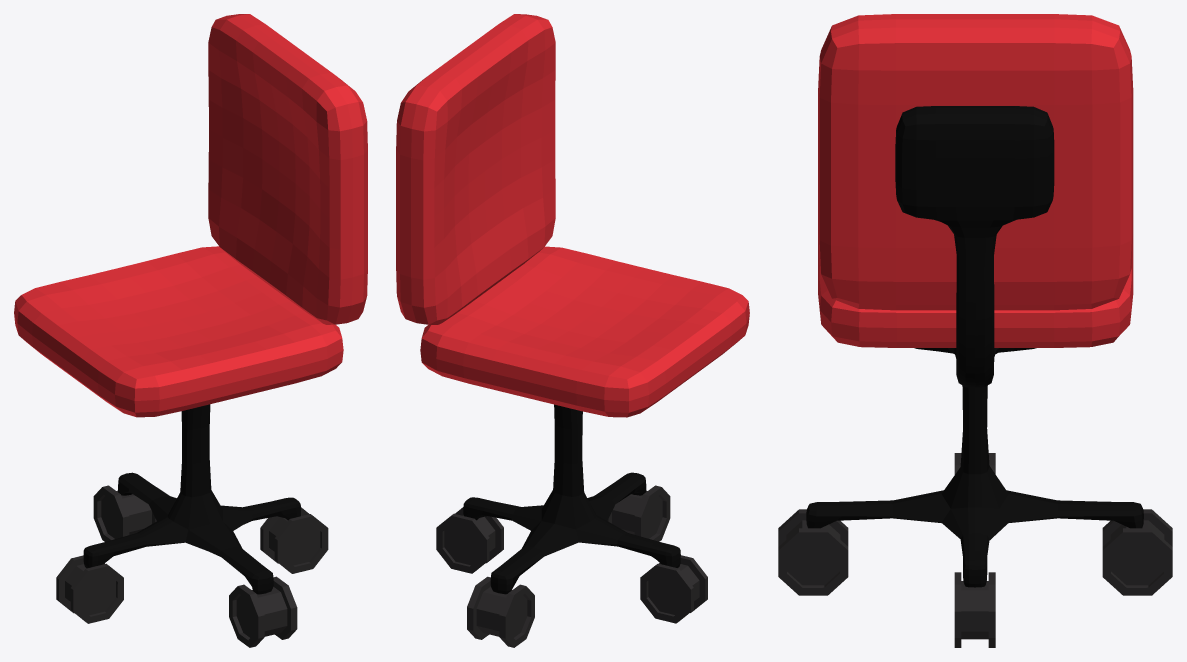
Rendered from sillaa_RECEPCION.fbx.
3 renders of one model, left to right at view 1: azimuth 30°, elevation 25°; view 2: azimuth 150°, elevation 25°; view 3: azimuth 270°, elevation 25°, orthographic. The views are drawn at different scales.
Parts seen in each view (by area): view 1: silla_RECEPCION; view 2: silla_RECEPCION; view 3: silla_RECEPCION.
Part boxes in pixels (<box>): silla_RECEPCION: <box>14,14,367,647</box>; silla_RECEPCION: <box>396,14,749,647</box>; silla_RECEPCION: <box>778,14,1172,647</box>.
Size of the model in its own units: 319 by 580 by 335.
